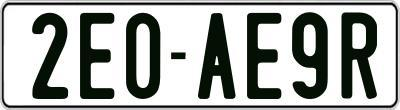0: (124, 12, 159, 99)
2: (30, 10, 69, 102)
9: (292, 10, 329, 97)
A: (198, 13, 239, 103)
E: (78, 13, 118, 102), (244, 11, 278, 99)
R: (339, 12, 375, 105)
